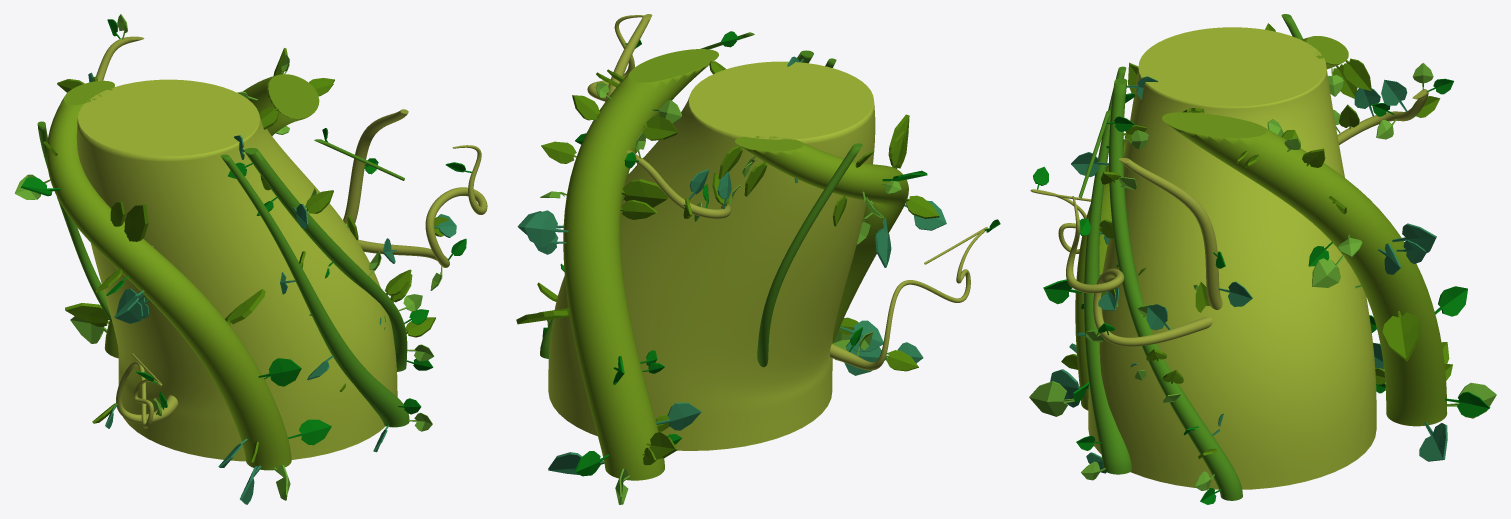
The model's file is Bohnenranke_Stumpf.fbx.
3 views of the same model, side by side, from view 1: azimuth 30°, elevation 25°; view 2: azimuth 150°, elevation 25°; view 3: azimuth 270°, elevation 25° (orthographic). The views are drawn at different scales.
Parts seen in each view (by area): view 1: NurbsPath.028, NurbsPath.030, NurbsPath.036, NurbsPath.031, NurbsPath.029, NurbsPath.035, NurbsPath.032, NurbsPath.034, NurbsPath.037, Plane.040, Plane.051, Plane.057 (+3 smaller); view 2: NurbsPath.028, NurbsPath.029, NurbsPath.030, NurbsPath.037, NurbsPath.034, NurbsPath.039, Plane.155, Plane.149, NurbsPath.032, Plane.163, Plane.144, Plane.054 (+5 smaller); view 3: NurbsPath.028, NurbsPath.029, NurbsPath.031, NurbsPath.036, NurbsPath.030, NurbsPath.035, NurbsPath.032, Plane.158, NurbsPath.039, Plane.060, Plane.168, Plane.154 (+7 smaller).
Part boxes in pixels (<box>): NurbsPath.028: <box>76,79,397,461</box>; NurbsPath.030: <box>46,80,291,470</box>; NurbsPath.036: <box>220,139,409,427</box>; NurbsPath.031: <box>244,148,407,371</box>; NurbsPath.029: <box>104,74,319,358</box>; NurbsPath.035: <box>357,145,487,267</box>; NurbsPath.032: <box>343,109,408,223</box>; NurbsPath.034: <box>116,353,178,428</box>; NurbsPath.037: <box>37,121,112,324</box>; Plane.040: <box>124,204,148,241</box>; Plane.051: <box>258,358,301,386</box>; Plane.057: <box>288,419,331,445</box>; NurbsPath.028: <box>548,61,875,450</box>; NurbsPath.029: <box>563,49,718,480</box>; NurbsPath.030: <box>735,136,908,343</box>; NurbsPath.037: <box>757,143,862,367</box>; NurbsPath.034: <box>830,227,987,370</box>; NurbsPath.039: <box>626,150,731,218</box>; Plane.155: <box>523,210,568,246</box>; Plane.149: <box>621,179,668,207</box>; NurbsPath.032: <box>605,14,652,101</box>; Plane.163: <box>656,402,701,430</box>; Plane.144: <box>642,115,678,140</box>; Plane.054: <box>839,320,883,351</box>; NurbsPath.028: <box>1088,27,1376,489</box>; NurbsPath.029: <box>1162,112,1447,426</box>; NurbsPath.031: <box>1109,78,1242,500</box>; NurbsPath.036: <box>1078,66,1131,474</box>; NurbsPath.030: <box>1075,36,1348,410</box>; NurbsPath.035: <box>1066,196,1212,346</box>; NurbsPath.032: <box>1119,158,1222,309</box>; Plane.158: <box>1382,311,1420,361</box>; NurbsPath.039: <box>1337,89,1428,144</box>; Plane.060: <box>1029,381,1074,416</box>; Plane.168: <box>1419,422,1447,461</box>; Plane.154: <box>1312,254,1344,287</box>.
Bounding box in the file's own units: 461 × 389 × 452.
